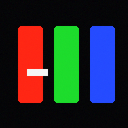3 line_h: (27, 69, 47, 75)
